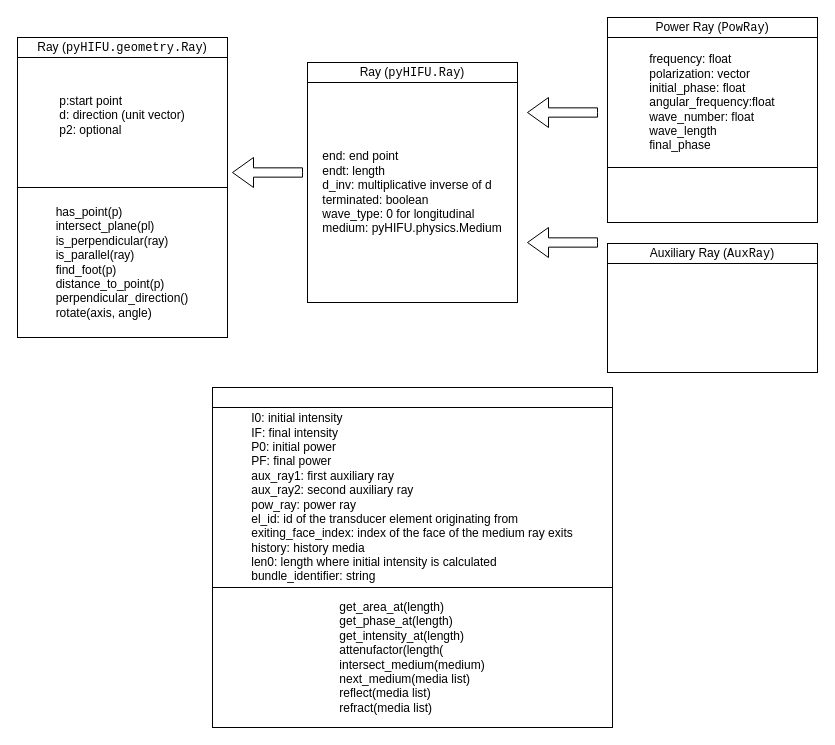
Some shapes in this 835 by 745 pixel diagram are drawn without their labels. Each missing label, with the centre of its shape:
get_phase_at(length): point 712,194
No new methods or variables: point 712,317
Trident( pyHIFU.Trident ): point 412,397
